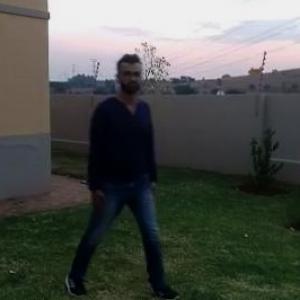follow: (85, 59, 152, 260)
